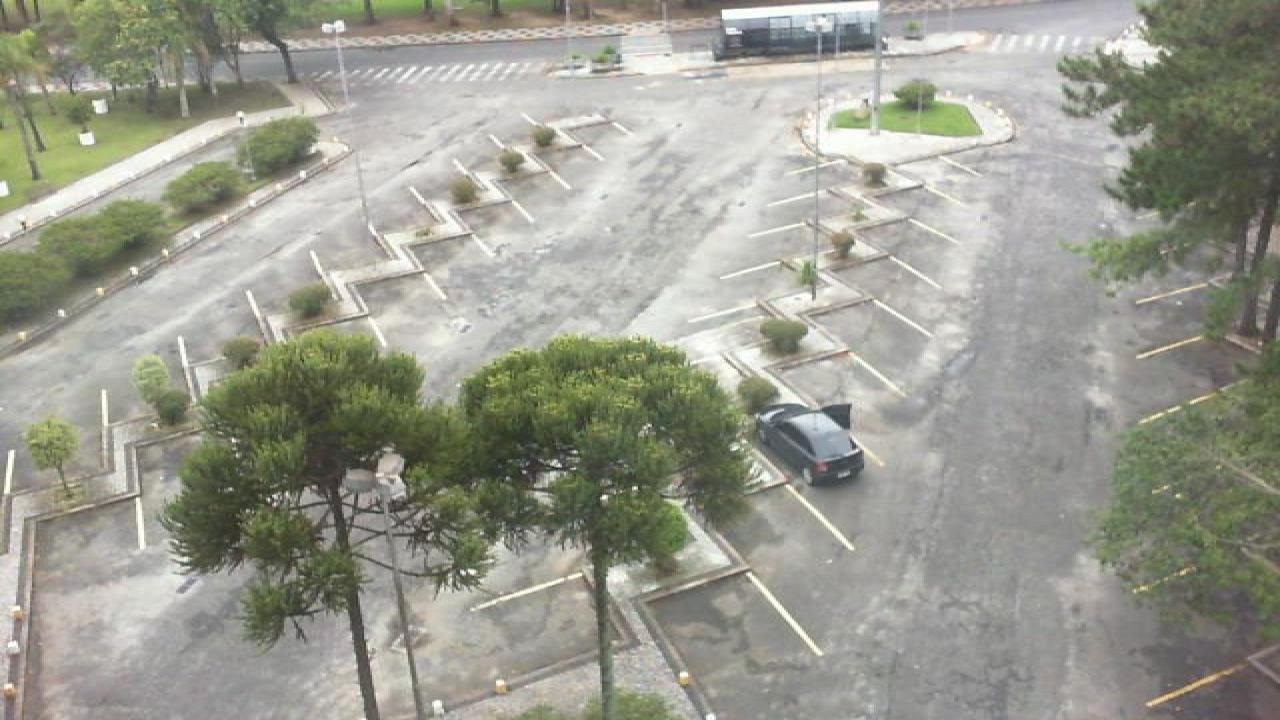Car: (754, 402, 866, 487)
